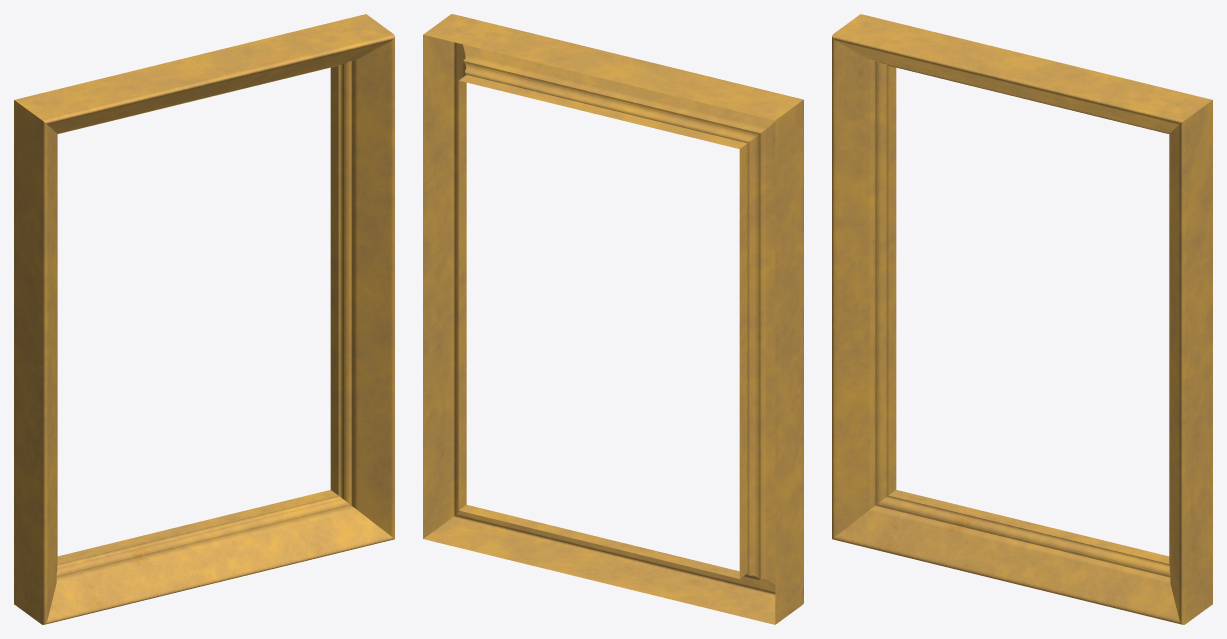
Rendered from TrinitySquare.gltf.
The picture shows the model from 3 angles, left to right: view 1: azimuth 30°, elevation 25°; view 2: azimuth 150°, elevation 25°; view 3: azimuth 330°, elevation 25°; orthographic projection.
Visible parts, largest first — view 1: TrinitySquare; view 2: TrinitySquare; view 3: TrinitySquare.
Part boxes in pixels (x1,y1,x2,y2): TrinitySquare: (14,14,394,624); TrinitySquare: (423,14,803,624); TrinitySquare: (832,14,1212,624).
Size of the model in its own units: 2.57 by 3.52 by 0.3758.
Materials: 1 (1 with a texture image).
